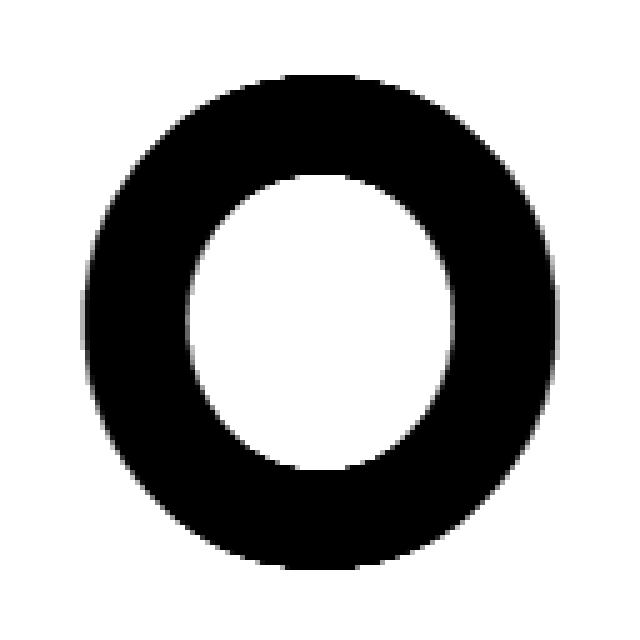O: (80, 75, 560, 575)
